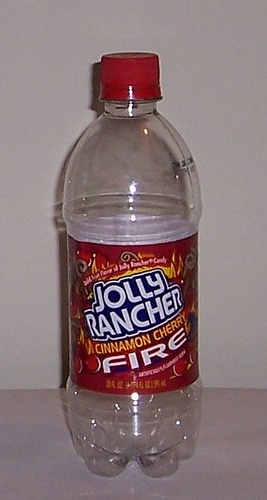emptybottle: (61, 54, 203, 480)
